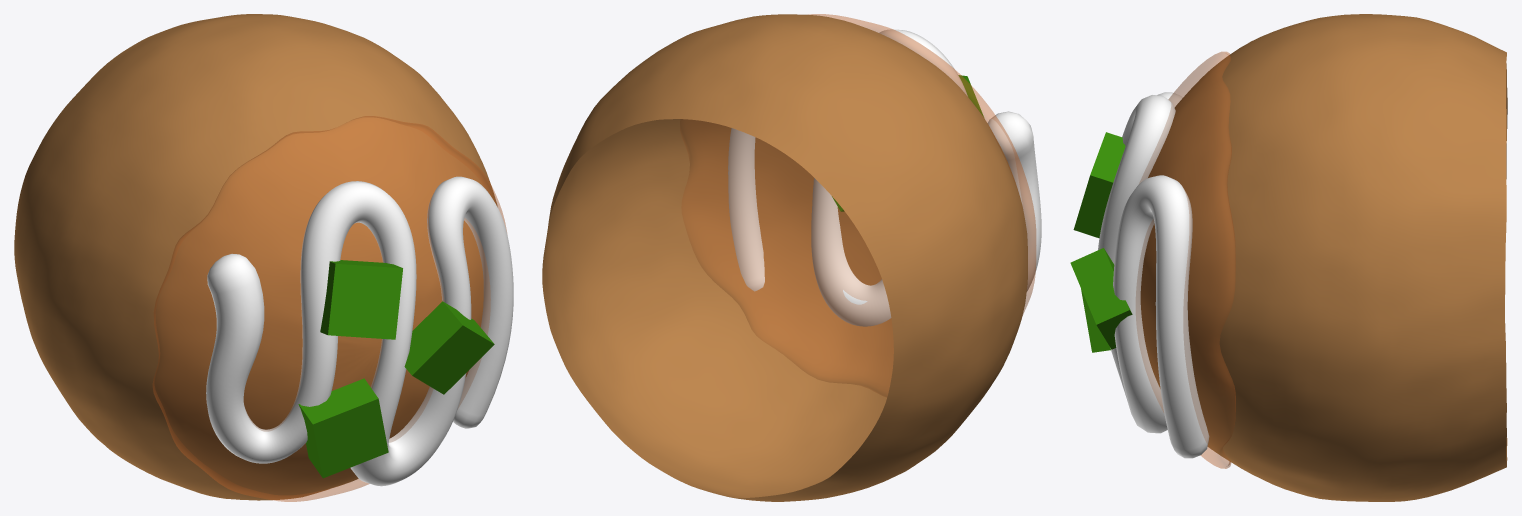
File: takoyaki.glb
3 renders of one model, left to right at view 1: azimuth 30°, elevation 25°; view 2: azimuth 150°, elevation 25°; view 3: azimuth 270°, elevation 25°, orthographic.
Visible parts, largest first — view 1: Pick.009, Pick.007, NurbsPath.030, Cube.743; view 2: Pick.009, Pick.007, NurbsPath.030; view 3: Pick.009, NurbsPath.030, Pick.007, Cube.743.
Part boxes in pixels (x1,y1,x2,y2): Pick.009: (14, 14, 497, 500); Pick.007: (153, 116, 506, 501); NurbsPath.030: (206, 176, 513, 486); Cube.743: (298, 260, 494, 478); Pick.009: (542, 14, 1027, 501); Pick.007: (680, 14, 1036, 396); NurbsPath.030: (728, 29, 1041, 326); Pick.009: (1140, 14, 1507, 501); NurbsPath.030: (1098, 92, 1209, 458); Pick.007: (1136, 52, 1235, 468); Cube.743: (1070, 132, 1132, 352).
Size of the model in its own units: 13.4 by 13.48 by 11.92.
